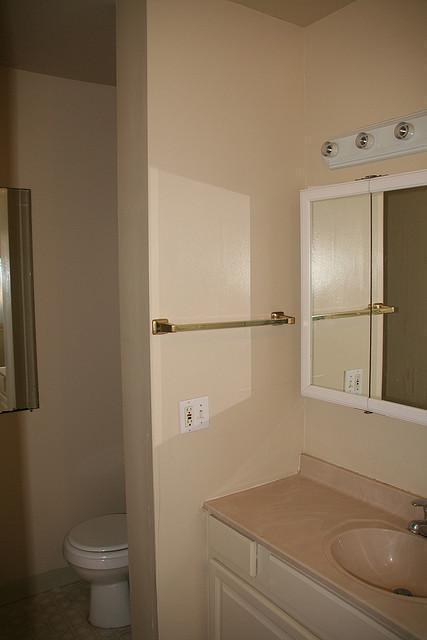Lavamanos: (320, 488, 426, 614)
